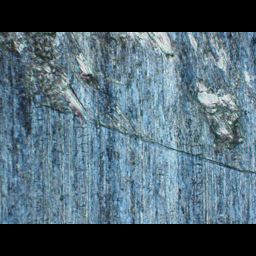d: (2, 31, 254, 177)
